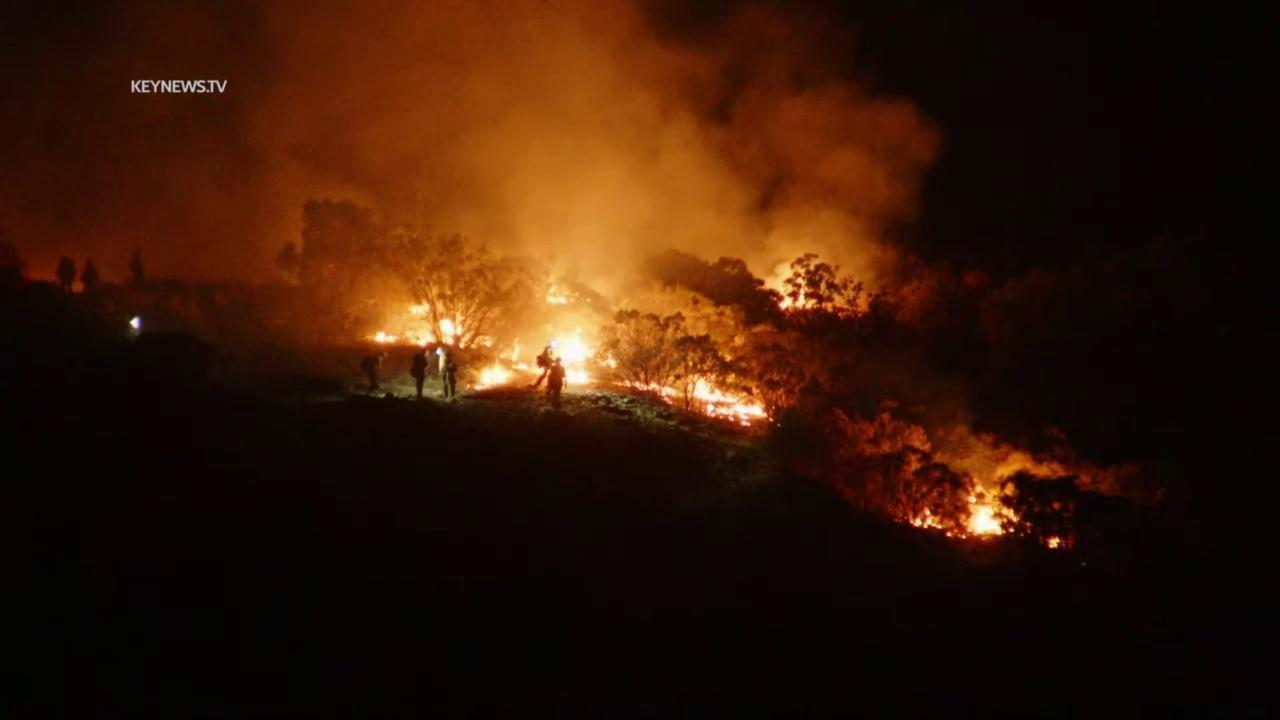fire: (609, 375, 780, 428), (903, 480, 1023, 541), (373, 299, 468, 350), (546, 324, 593, 385), (467, 358, 522, 392), (775, 290, 819, 312), (500, 336, 528, 370), (543, 284, 570, 305), (594, 351, 619, 370), (1043, 535, 1061, 551)
smoke: (0, 0, 949, 433)
